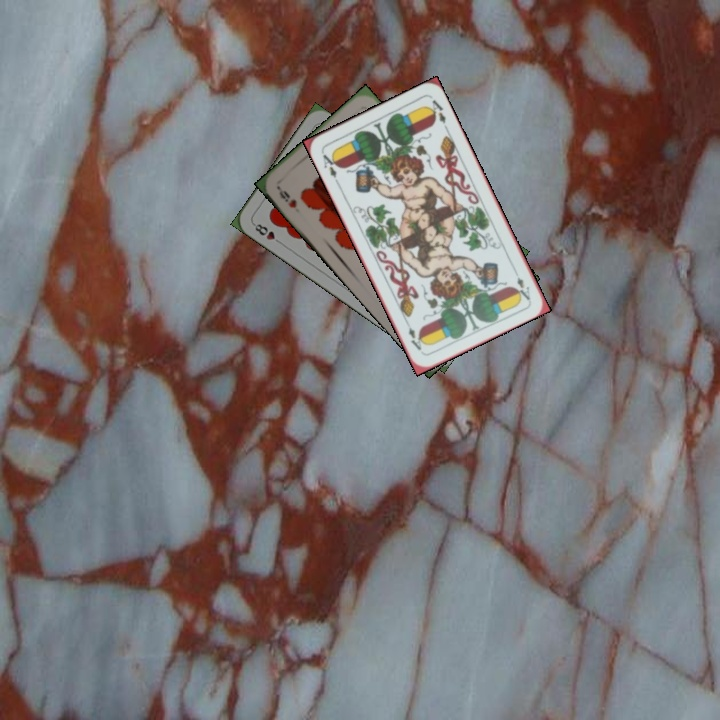EA: (510, 264, 533, 303), (318, 149, 342, 186)
H8: (249, 219, 285, 247)
H9: (274, 183, 299, 211)
